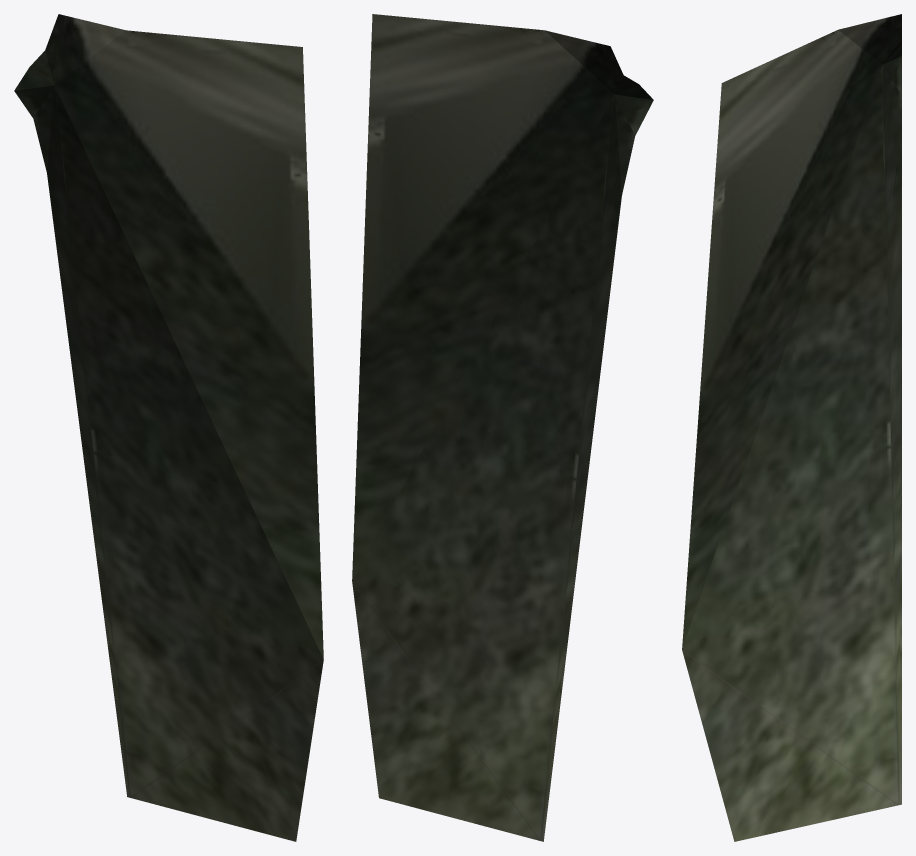
3 views of the same model, side by side, from view 1: azimuth 30°, elevation 25°; view 2: azimuth 210°, elevation 25°; view 3: azimuth 270°, elevation 25° (orthographic). The views are drawn at different scales.
Bounding box in the file's own units: 1.5 × 5.9 × 1.55.
1 material, 1 textured.
